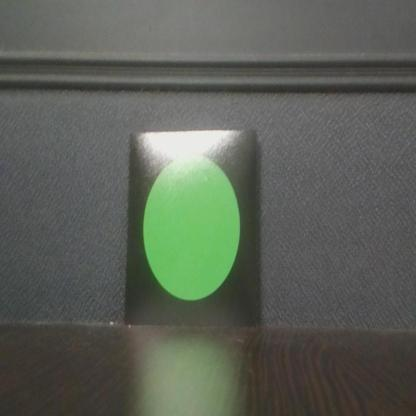go: (131, 136, 258, 322)
